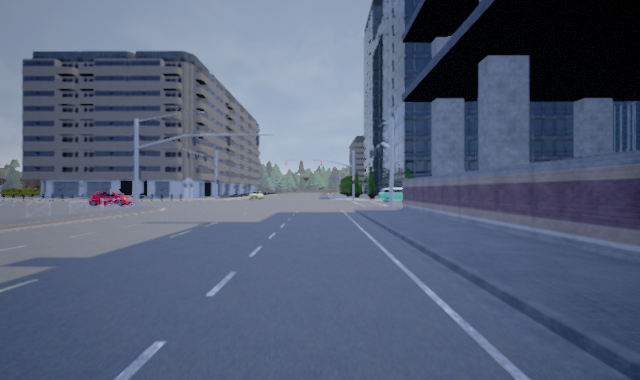vehicle: (88, 189, 133, 206), (379, 187, 412, 201), (248, 190, 264, 200)
